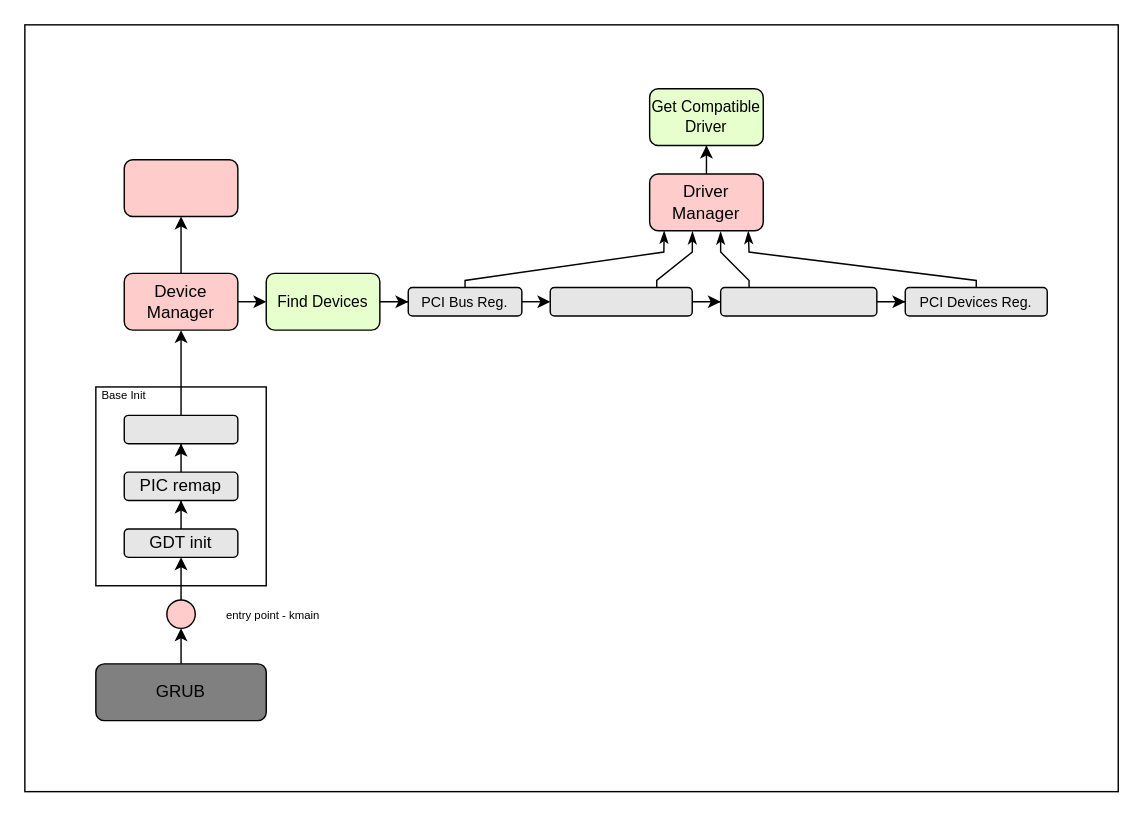
Image size: 1143x817. Some labels were removed from this diagram. The centre of each missing label's shape, as x and y in pixels:
API init: the point at 180,429
Legacy Devices Reg.: the point at 798,301
Scheduler: the point at 180,187
Virtual Devices Reg.: the point at 620,301
